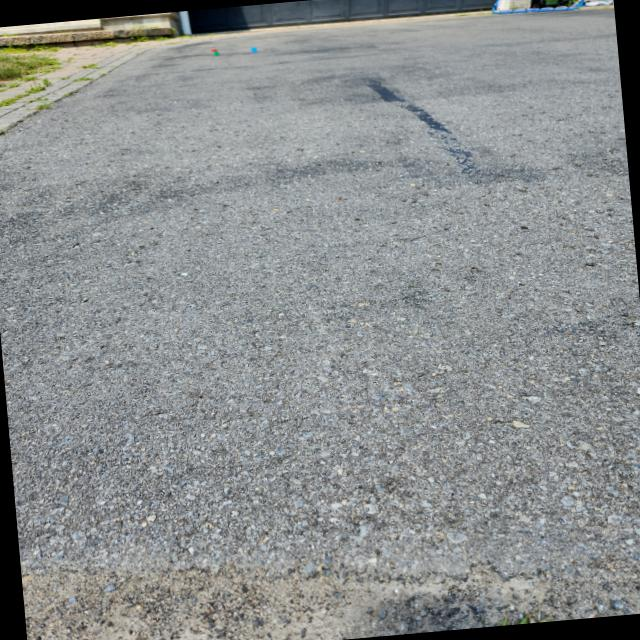bluecube: (250, 47, 257, 53)
green cube: (213, 50, 219, 56)
red cube: (210, 49, 217, 54)
